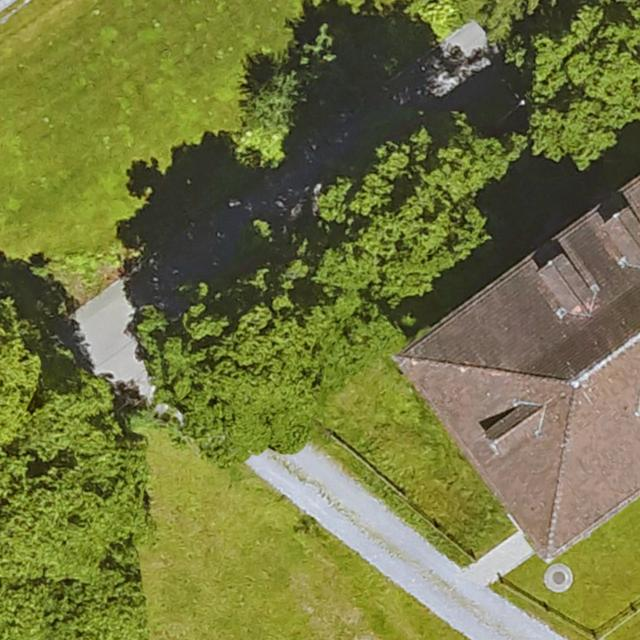tree: (139, 255, 376, 440), (319, 115, 518, 294), (509, 0, 640, 164), (0, 388, 148, 517), (0, 526, 143, 640), (0, 286, 46, 429), (242, 67, 295, 169)
